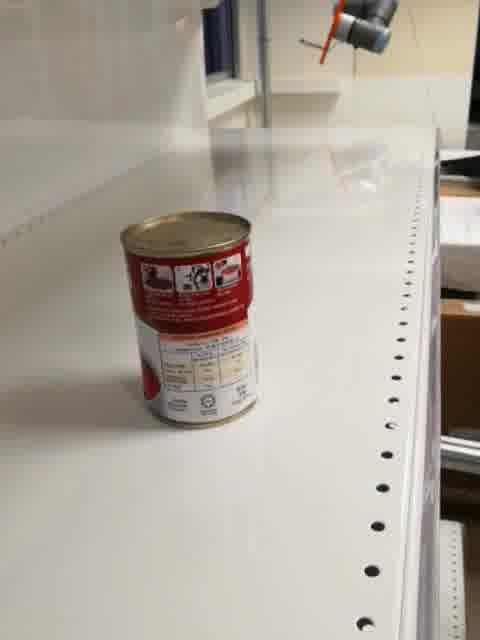tomatosoup: (116, 207, 263, 433)
